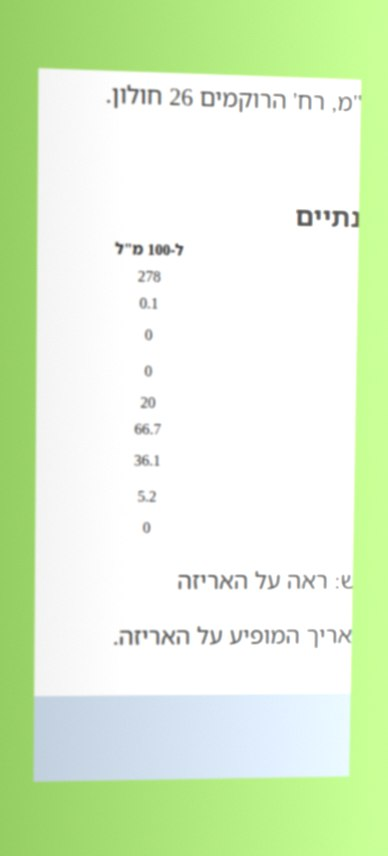carbs: (132, 415, 164, 442)
energy: (135, 263, 163, 289)
fat: (137, 289, 161, 316)
protein: (140, 514, 153, 540)
